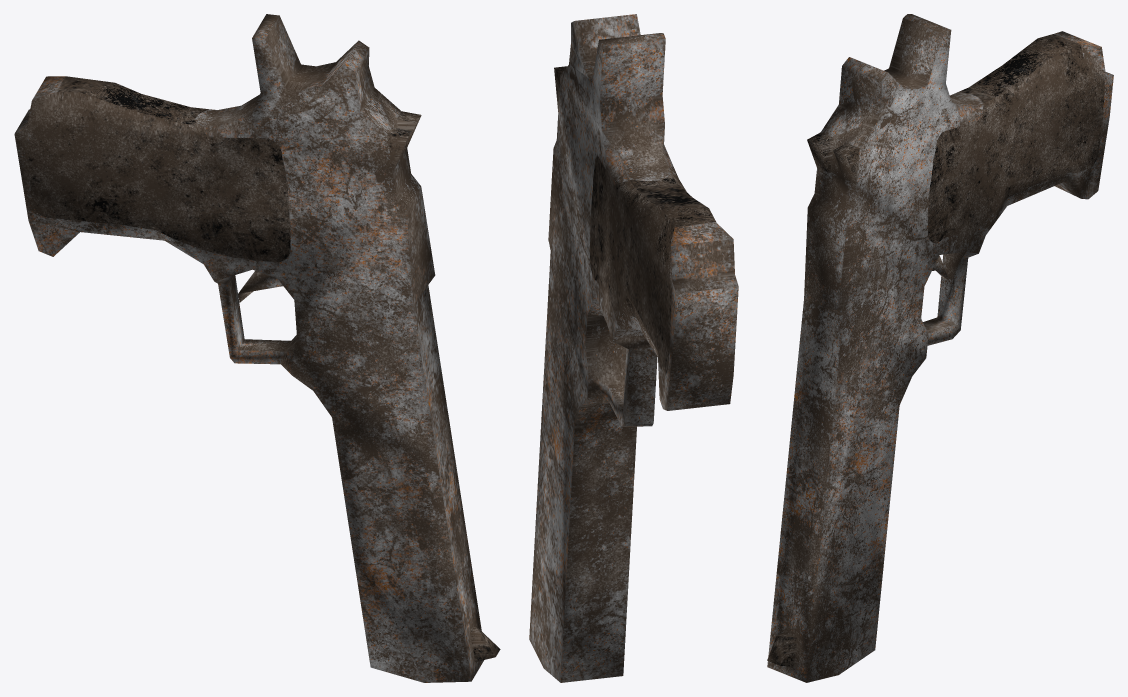
Rendered from Anim_idle_pistola_objetos.0033.obj.
The picture shows the model from 3 angles, left to right: view 1: azimuth 30°, elevation 25°; view 2: azimuth 150°, elevation 25°; view 3: azimuth 270°, elevation 25°; orthographic projection. The views are drawn at different scales.
Visible parts, largest first — view 1: Pistola1; view 2: Pistola1; view 3: Pistola1.
Part boxes in pixels (x1,y1,x2,y2): Pistola1: (14,14,500,682); Pistola1: (529,14,738,682); Pistola1: (767,14,1113,682).
Size of the model in its own units: 0.9124 by 1.67 by 0.8798.
